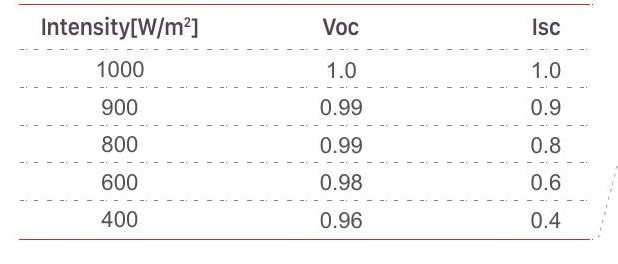table: (13, 2, 598, 243)
table column: (32, 6, 224, 240), (279, 6, 403, 237), (506, 6, 589, 237)
table column header: (21, 8, 588, 48)
table row: (21, 7, 587, 46), (21, 91, 589, 123), (22, 167, 591, 198), (21, 54, 588, 85), (21, 130, 590, 160), (21, 206, 592, 234)
